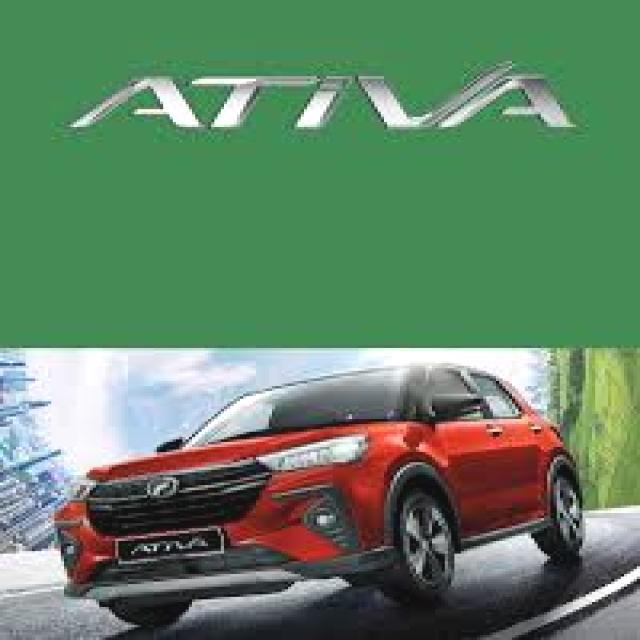PeroduaAtiva: (52, 359, 586, 627)
